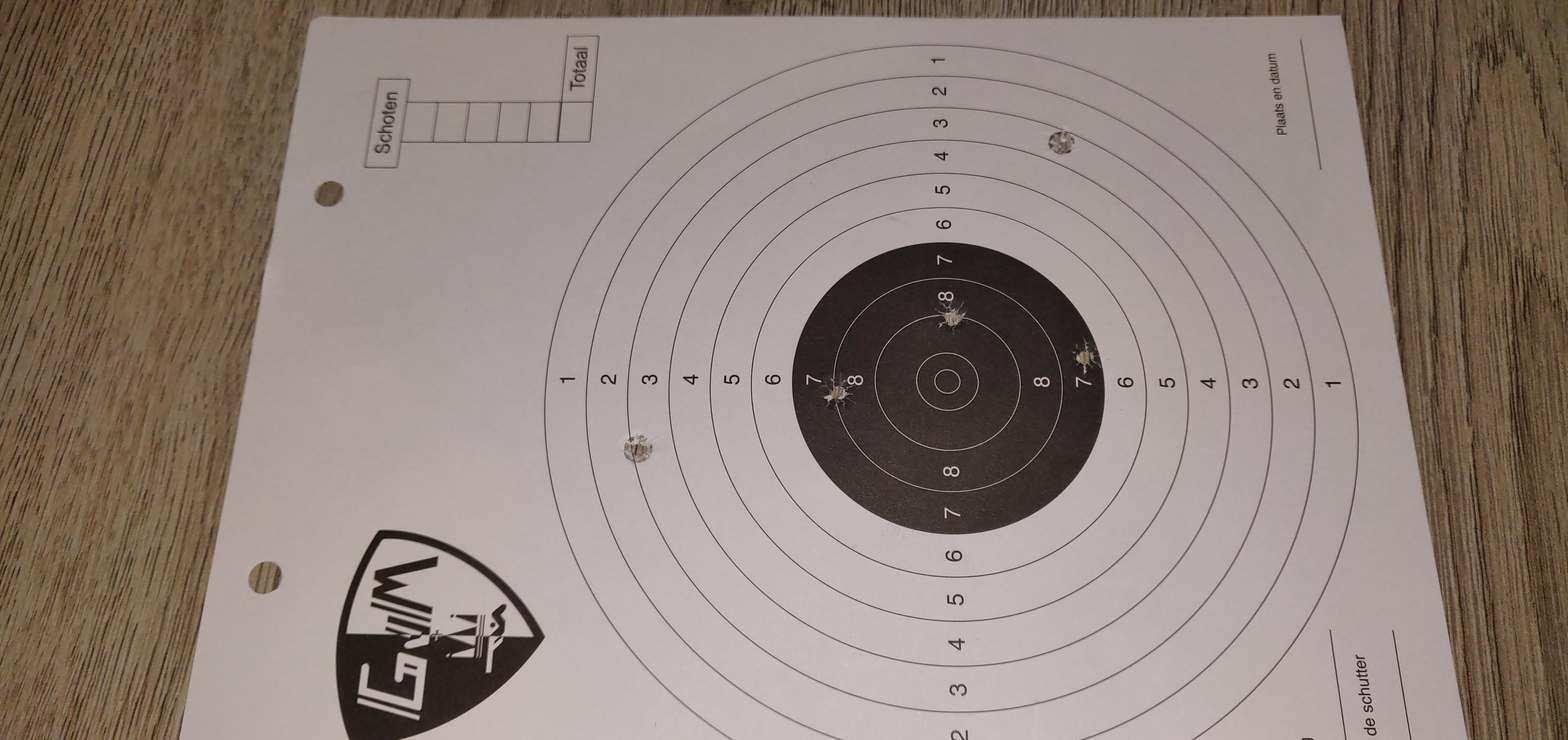hole: (697, 386, 782, 404), (770, 505, 854, 520), (581, 293, 655, 309), (861, 441, 930, 457), (1235, 494, 1295, 508)
